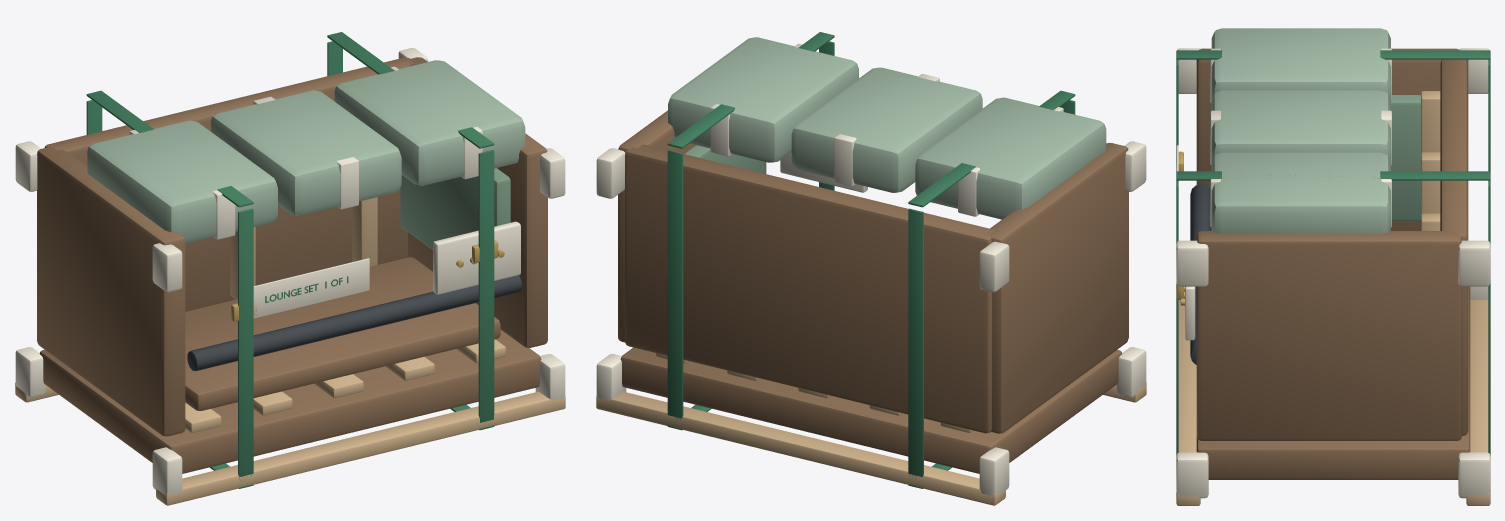
File: packed_product_lounge1.glb
The picture shows the model from 3 angles, left to right: view 1: azimuth 30°, elevation 25°; view 2: azimuth 150°, elevation 25°; view 3: azimuth 270°, elevation 25°; orthographic projection. The views are drawn at different scales.
Parts seen in each view (by area): view 1: LOUNGE_SIDE_PANEL_WEST, LOUNGE_BASE_PANEL, LOUNGE_TABLE_TOP_PANEL, LOUNGE_BACK_PANEL, LOUNGE_COMPRESSED_CUSHION_02, LOUNGE_COMPRESSED_CUSHION_01, LOUNGE_COMPRESSED_CUSHION_03, LOUNGE_SKID_FRONT, LOUNGE_SIDE_PANEL_EAST, LOUNGE_SIDE_INSET_EAST, LOUNGE_STRAP_EAST_FRONT, LOUNGE_STRAP_WEST_FRONT (+23 smaller); view 2: LOUNGE_BACK_PANEL, LOUNGE_SIDE_PANEL_WEST, LOUNGE_BASE_PANEL, LOUNGE_COMPRESSED_CUSHION_02, LOUNGE_COMPRESSED_CUSHION_01, LOUNGE_COMPRESSED_CUSHION_03, LOUNGE_SKID_REAR, LOUNGE_STRAP_EAST_REAR, LOUNGE_STRAP_WEST_REAR, LOUNGE_SIDE_PANEL_EAST, LOUNGE_CORNER_GUARD_WEST_REAR_TOP, LOUNGE_STRAP_EAST_TOP (+11 smaller); view 3: LOUNGE_SIDE_PANEL_EAST, LOUNGE_COMPRESSED_CUSHION_03, LOUNGE_COMPRESSED_CUSHION_02, LOUNGE_COMPRESSED_CUSHION_01, LOUNGE_BASE_PANEL, LOUNGE_BACK_PANEL, LOUNGE_SIDE_PANEL_WEST, LOUNGE_SIDE_INSET_WEST, LOUNGE_SKID_REAR, LOUNGE_SKID_FRONT, LOUNGE_STRAP_WEST_TOP, LOUNGE_STRAP_EAST_TOP (+14 smaller).
Boxes of the visible parts, <box> form: LOUNGE_SIDE_PANEL_WEST: <box>37,146,185,436</box>; LOUNGE_BASE_PANEL: <box>39,330,541,473</box>; LOUNGE_TABLE_TOP_PANEL: <box>185,257,500,410</box>; LOUNGE_BACK_PANEL: <box>44,57,413,311</box>; LOUNGE_COMPRESSED_CUSHION_02: <box>210,90,401,215</box>; LOUNGE_COMPRESSED_CUSHION_01: <box>87,120,277,243</box>; LOUNGE_COMPRESSED_CUSHION_03: <box>334,60,525,185</box>; LOUNGE_SKID_FRONT: <box>156,391,565,505</box>; LOUNGE_SIDE_PANEL_EAST: <box>405,57,547,347</box>; LOUNGE_SIDE_INSET_EAST: <box>400,168,510,249</box>; LOUNGE_STRAP_EAST_FRONT: <box>478,150,494,422</box>; LOUNGE_STRAP_WEST_FRONT: <box>238,208,253,480</box>; LOUNGE_BACK_PANEL: <box>625,144,994,433</box>; LOUNGE_SIDE_PANEL_WEST: <box>987,142,1128,433</box>; LOUNGE_BASE_PANEL: <box>620,347,1122,473</box>; LOUNGE_COMPRESSED_CUSHION_02: <box>791,67,982,192</box>; LOUNGE_COMPRESSED_CUSHION_01: <box>915,97,1106,219</box>; LOUNGE_COMPRESSED_CUSHION_03: <box>668,37,858,162</box>; LOUNGE_SKID_REAR: <box>596,391,1005,505</box>; LOUNGE_STRAP_EAST_REAR: <box>667,150,683,419</box>; LOUNGE_STRAP_WEST_REAR: <box>908,208,923,478</box>; LOUNGE_SIDE_PANEL_EAST: <box>618,110,766,342</box>; LOUNGE_CORNER_GUARD_WEST_REAR_TOP: <box>979,241,1009,292</box>; LOUNGE_STRAP_EAST_TOP: <box>667,32,834,148</box>; LOUNGE_SIDE_PANEL_EAST: <box>1196,231,1462,440</box>; LOUNGE_COMPRESSED_CUSHION_03: <box>1211,152,1390,233</box>; LOUNGE_COMPRESSED_CUSHION_02: <box>1211,90,1390,161</box>; LOUNGE_COMPRESSED_CUSHION_01: <box>1211,28,1390,99</box>; LOUNGE_BASE_PANEL: <box>1196,286,1470,479</box>; LOUNGE_BACK_PANEL: <box>1440,59,1468,435</box>; LOUNGE_SIDE_PANEL_WEST: <box>1196,48,1459,230</box>; LOUNGE_SIDE_INSET_WEST: <box>1391,95,1420,220</box>; LOUNGE_SKID_REAR: <box>1466,300,1490,505</box>; LOUNGE_SKID_FRONT: <box>1176,300,1200,505</box>; LOUNGE_STRAP_WEST_TOP: <box>1176,50,1490,59</box>; LOUNGE_STRAP_EAST_TOP: <box>1176,171,1490,180</box>.
Size of the model in its own units: 1.18 by 0.8 by 0.78.
